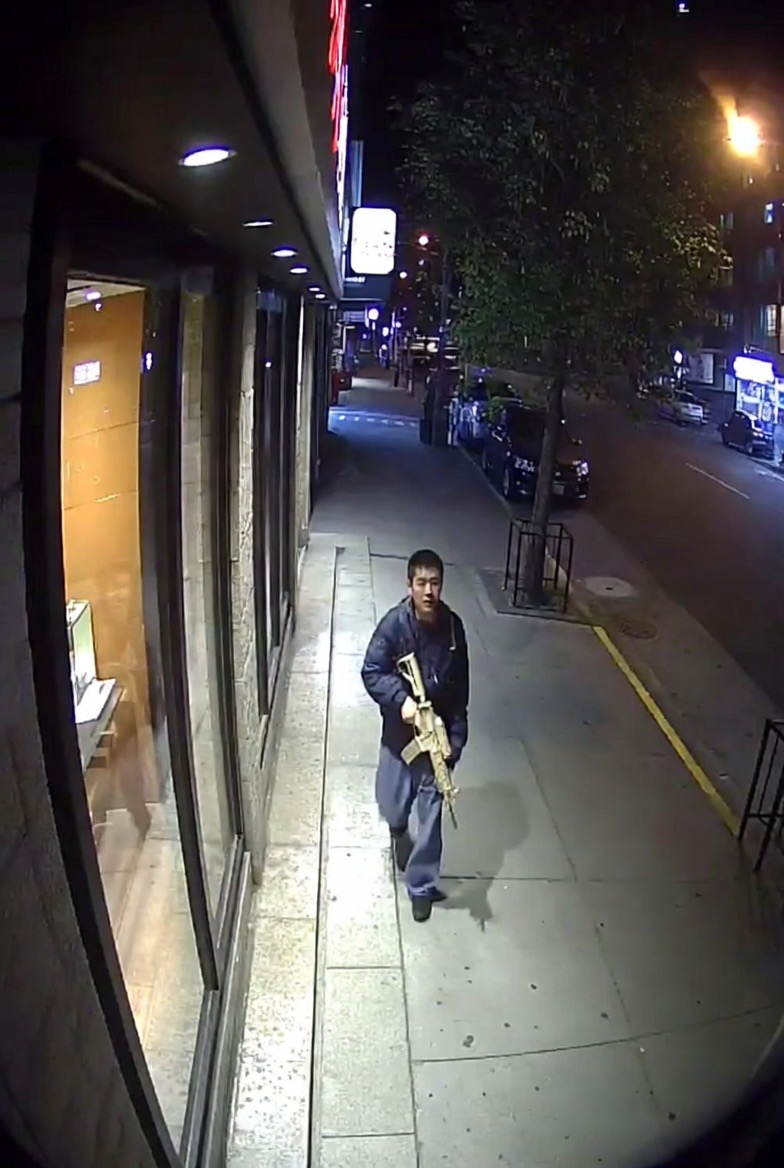person: (360, 549, 472, 923)
weapon: (395, 651, 461, 833)
